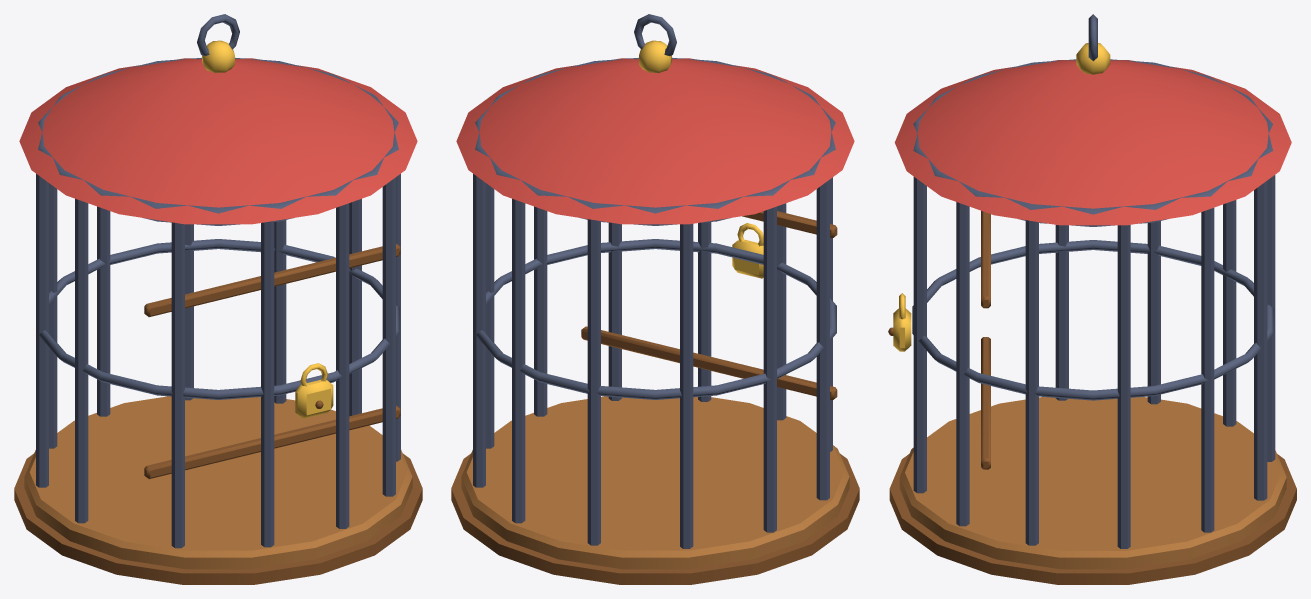
Rendered from cage.glb.
The picture shows the model from 3 angles, left to right: view 1: azimuth 30°, elevation 25°; view 2: azimuth 150°, elevation 25°; view 3: azimuth 270°, elevation 25°; orthographic projection.
Parts seen in each view (by area): view 1: cage, cage_door; view 2: cage, cage_door; view 3: cage, cage_door.
Boxes of the visible parts, <box> form: cage: <box>14,14,422,584</box>; cage_door: <box>144,177,400,548</box>; cage: <box>451,14,859,584</box>; cage_door: <box>581,177,837,451</box>; cage: <box>889,14,1296,584</box>; cage_door: <box>888,177,990,526</box>.
Size of the model in its own units: 1.58 by 2.09 by 1.61.
